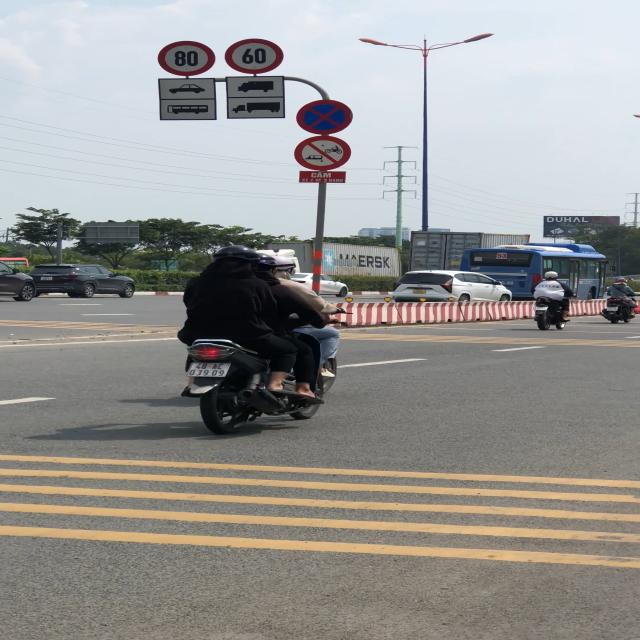Bien bao cam dung xe va do xe: (292, 99, 354, 136)
Bien bao toc do toi da cho phep: (222, 36, 287, 75), (157, 39, 220, 76)
